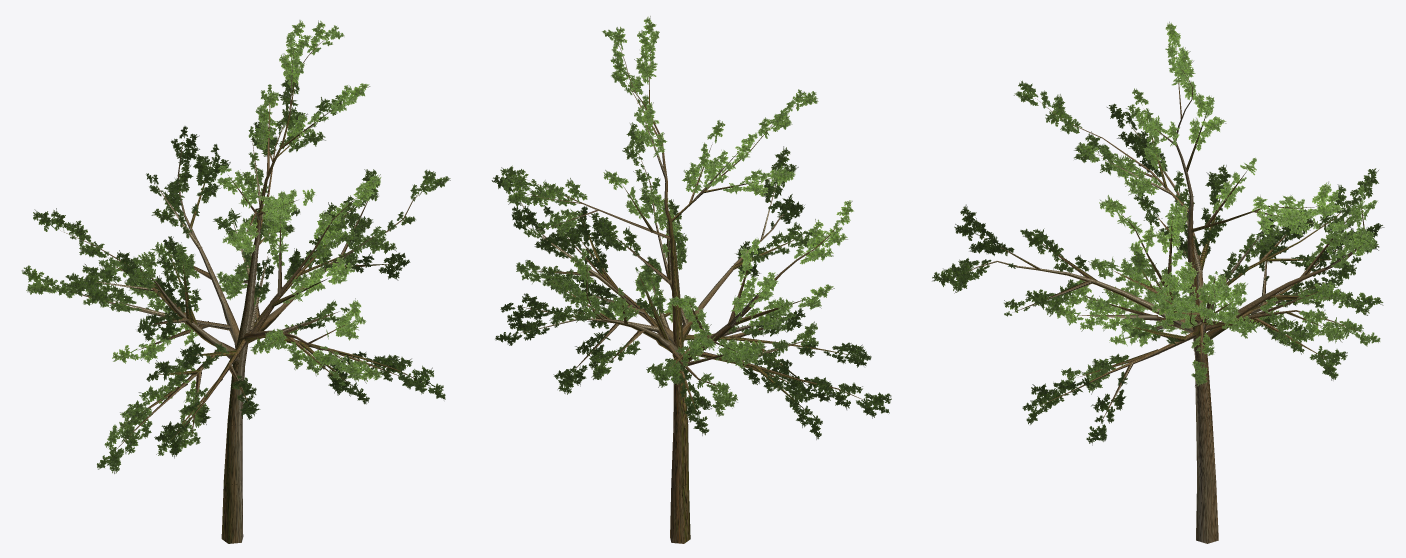
The model's file is eztree-street-young.glb.
3 renders of one model, left to right at view 1: azimuth 30°, elevation 25°; view 2: azimuth 150°, elevation 25°; view 3: azimuth 270°, elevation 25°, orthographic. The views are drawn at different scales.
Parts seen in each view (by area): view 1: LOD0; view 2: LOD0; view 3: LOD0.
Boxes of the visible parts, left/top/right/bottom form: LOD0: left=21, top=20, right=450, bottom=543; LOD0: left=491, top=16, right=891, bottom=543; LOD0: left=932, top=21, right=1384, bottom=543.
Size of what is drawn, in the model's own units: 5.44 by 7 by 5.42.
2 materials, 2 textured.
